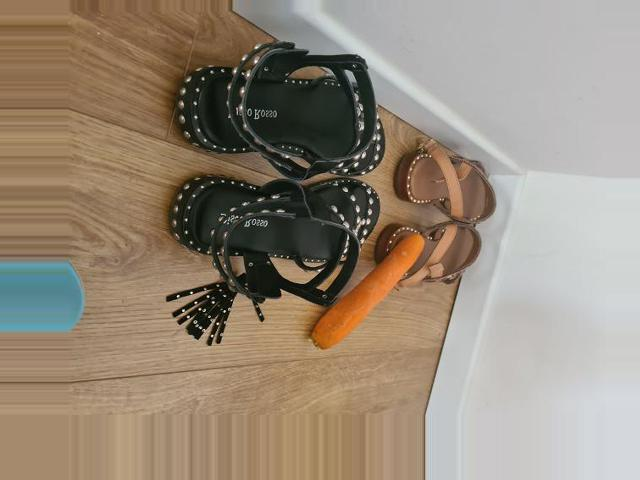carrot: (310, 229, 421, 347)
